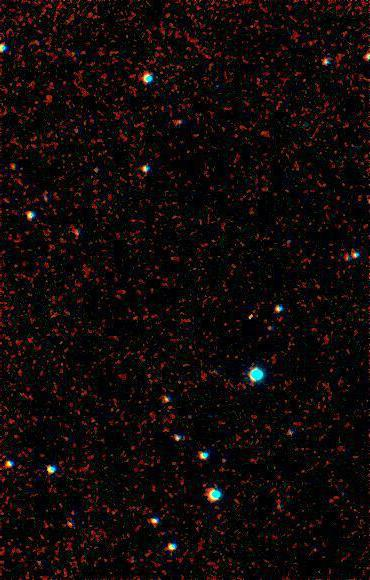star: (236, 298, 266, 328)
